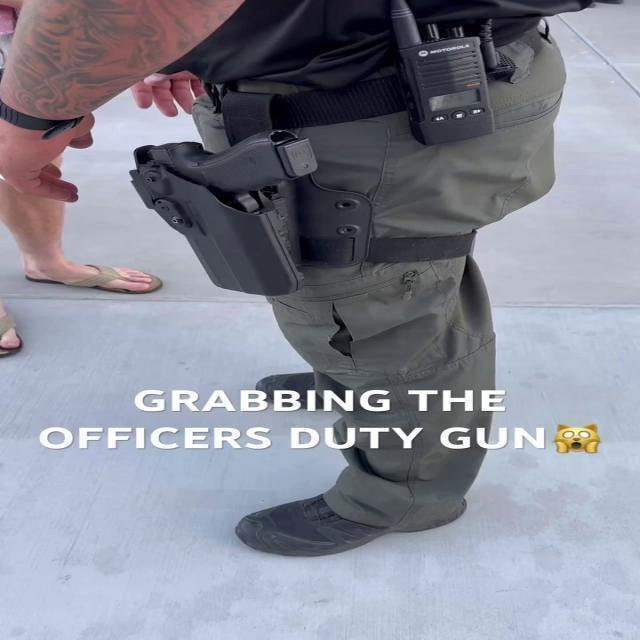Handgun: (131, 128, 342, 302)
